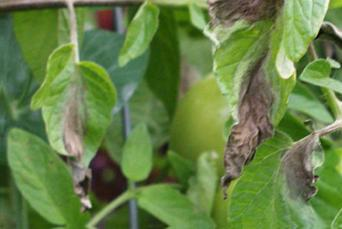Tomato leaf late blight: (203, 0, 339, 199), (21, 46, 129, 217), (205, 125, 339, 229)
